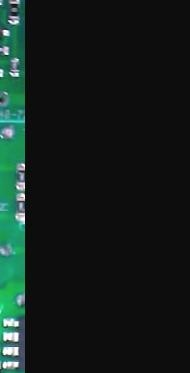chip-resistor: (14, 191, 26, 221), (14, 161, 26, 190), (6, 0, 20, 24), (9, 55, 21, 77)
